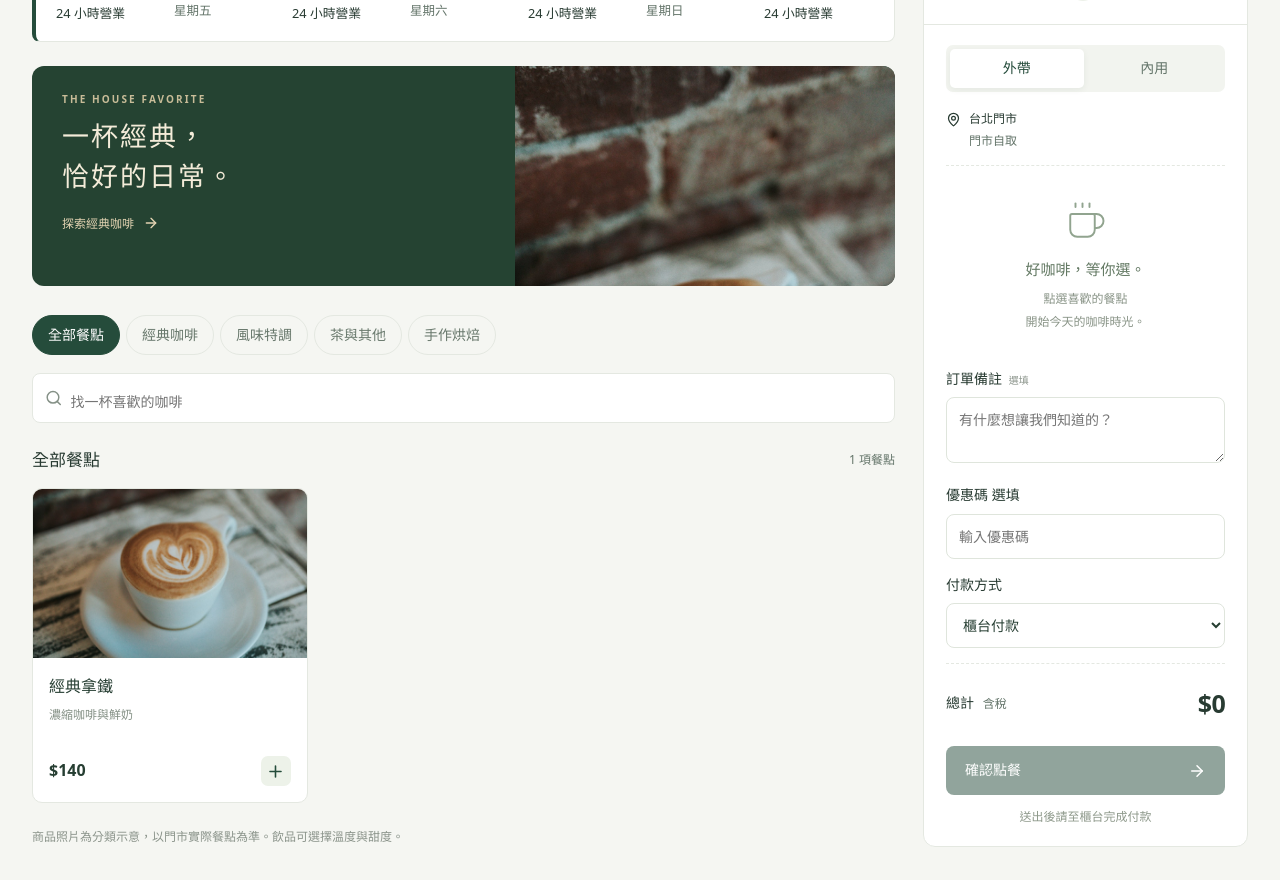
Test case: MenuView 可見性 › 有折抵時顯示試算明細並以後端總額為總計
(page scrolled)
Click the button "經典拿鐵 濃縮咖啡與鮮奶 $140" at (170, 646), box x1=32 y1=488 x2=308 y2=803
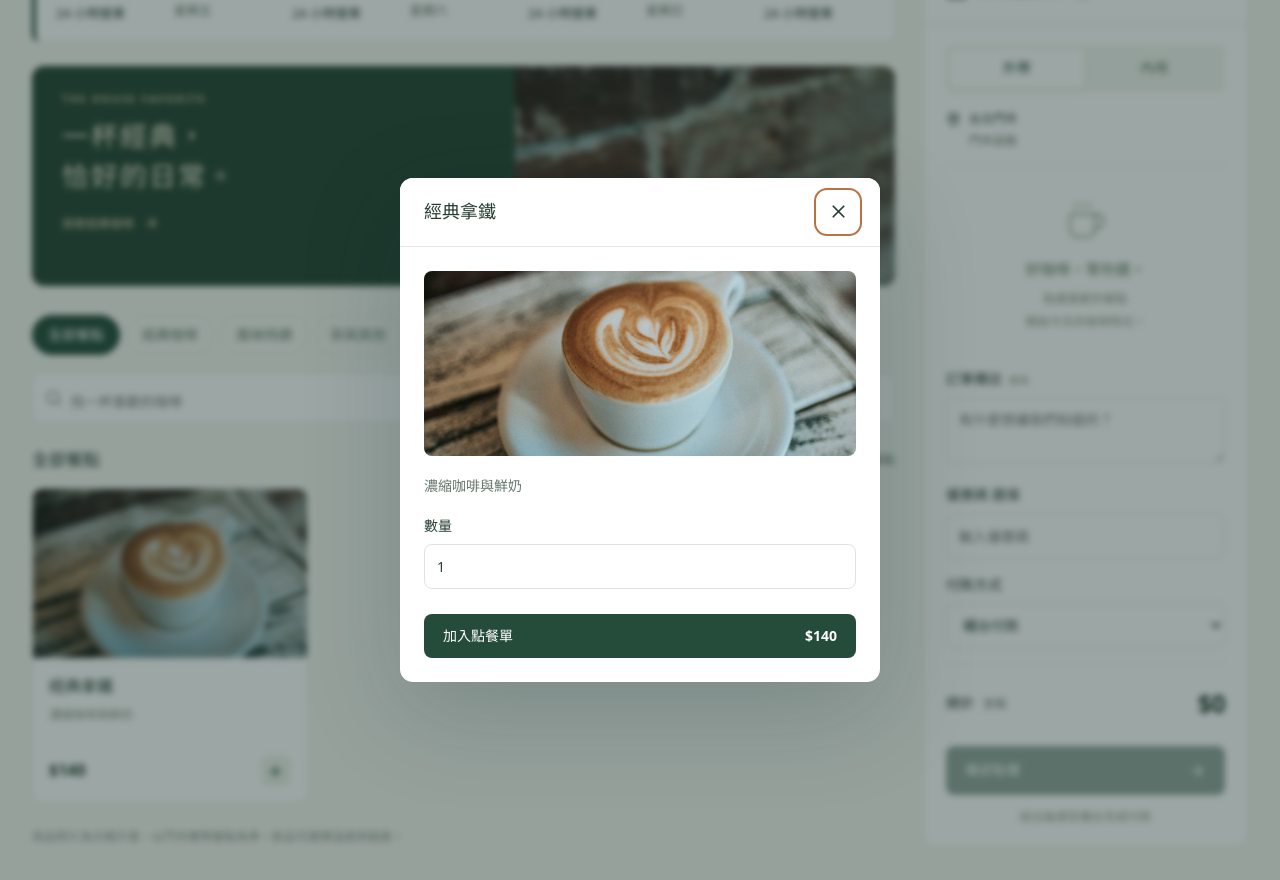
Result: the button "加入點餐單 $140" is shown
Click the button "加入點餐單 $140" at (478, 636), box x1=424 y1=614 x2=856 y2=658
Wait 300 ms
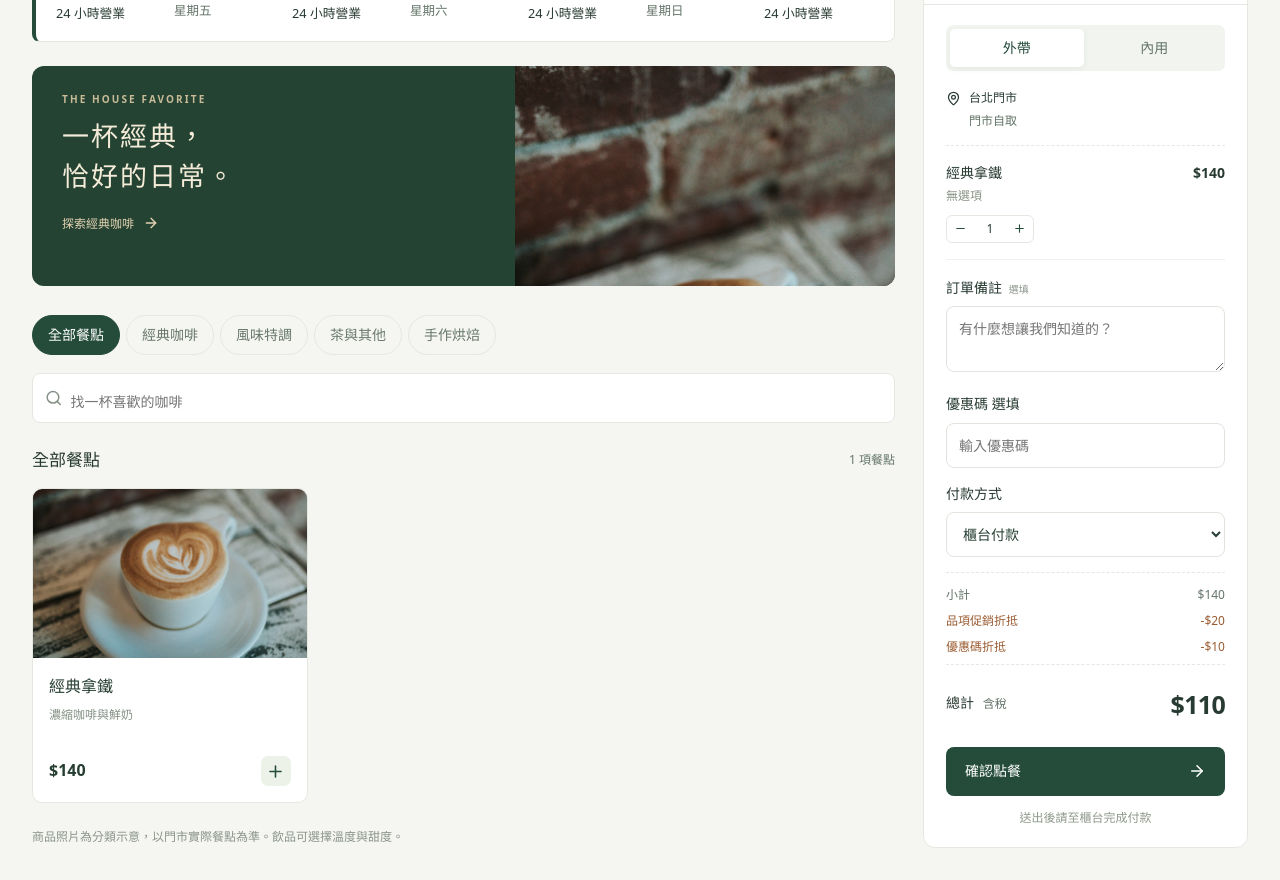
Result: the element with class "cart-estimate" shows "小計" at x1=946 y1=586 x2=970 y2=603
Result: the element with class "cart-estimate" shows "140" at x1=1198 y1=586 x2=1225 y2=603
Result: the element with class "cart-estimate" shows "品項促銷折抵" at x1=946 y1=612 x2=1018 y2=629
